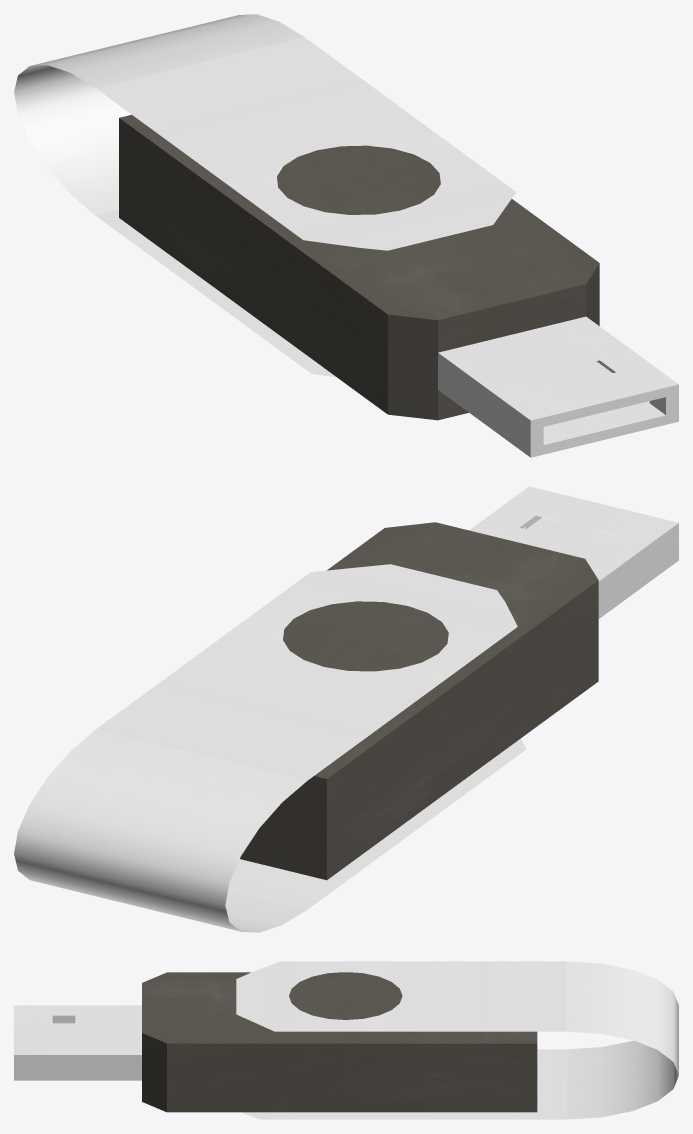
The model's file is USB.fbx.
3 renders of one model, top to bottom at view 1: azimuth 30°, elevation 25°; view 2: azimuth 150°, elevation 25°; view 3: azimuth 270°, elevation 25°, orthographic. The views are drawn at different scales.
Parts seen in each view (by area): view 1: pCube48, polySurface2; view 2: polySurface2, pCube48; view 3: pCube48, polySurface2.
Part boxes in pixels (x1,y1,x2,y2): pCube48: [119, 114, 678, 457]; polySurface2: [14, 14, 516, 377]; polySurface2: [14, 564, 526, 932]; pCube48: [240, 486, 678, 880]; pCube48: [14, 972, 537, 1112]; polySurface2: [236, 961, 678, 1119].
Size of the model in its own units: 2.74 by 1.56 by 10.72.
Materials: 1 (1 with a texture image).
